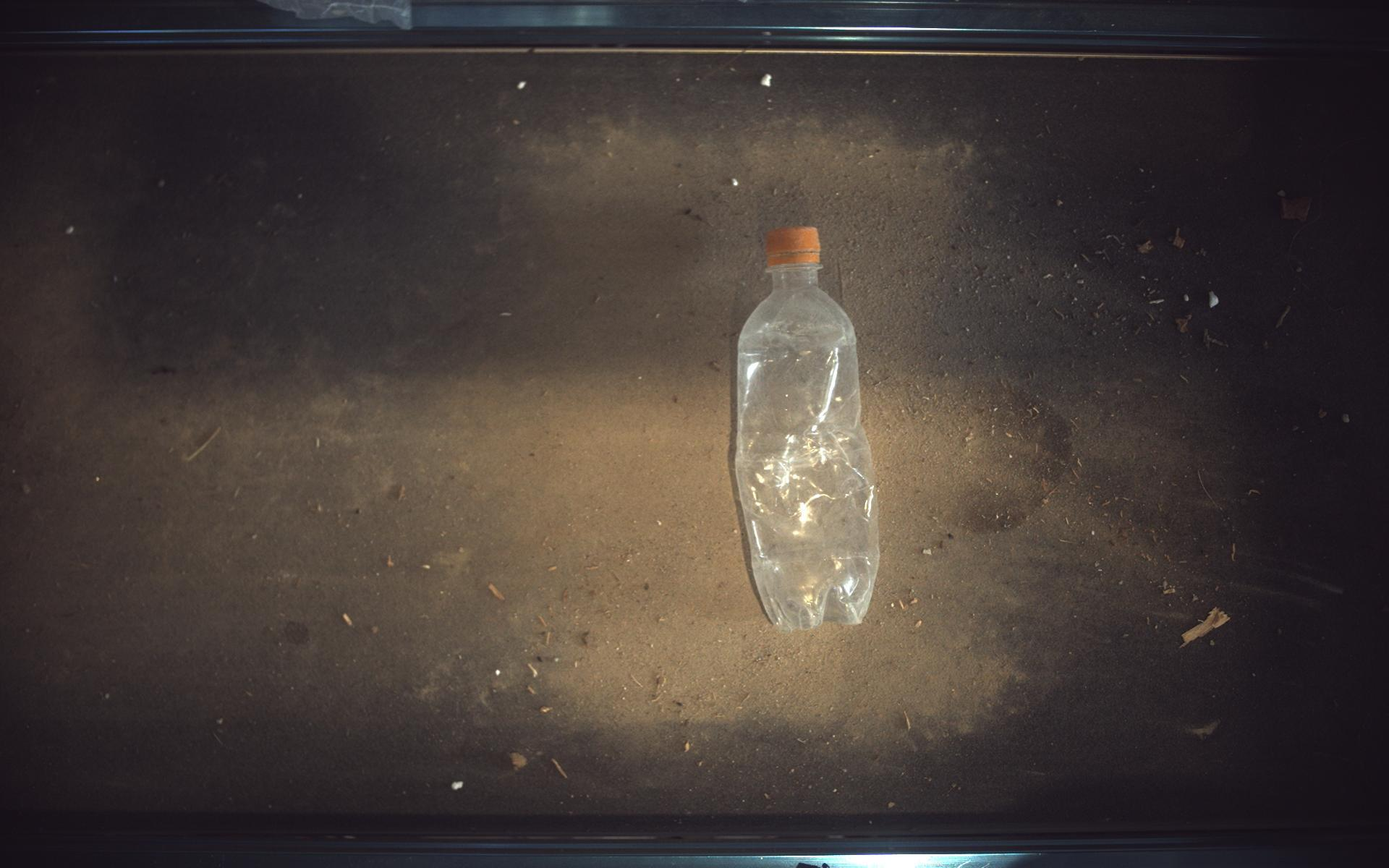general_w: (736, 226, 881, 631)
